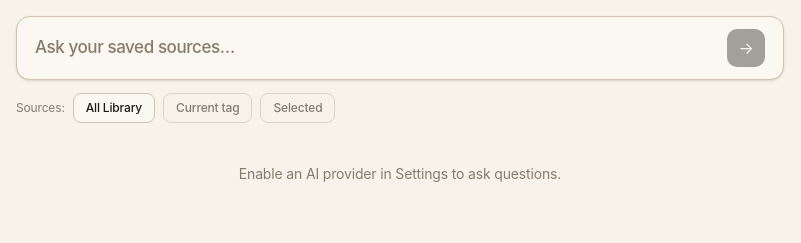
Scenario: AskPage › shows the insufficient-evidence notice when there are no citations
Type "obscure?" into the field with placeholder "Ask your saved sources…" at (374, 48), box [35,35,714,61]
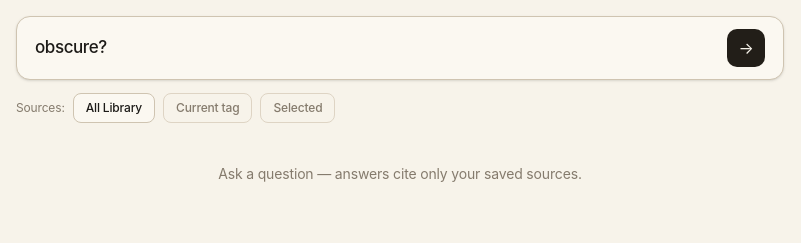
Expected: the button named "Answer" is enabled
Click the button named "Answer" at (746, 48), box [727,29,765,67]
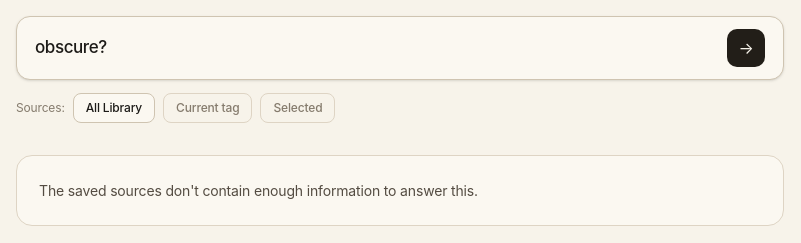
Expected: the text "don't contain enough information" is shown, [39,182,478,199]
